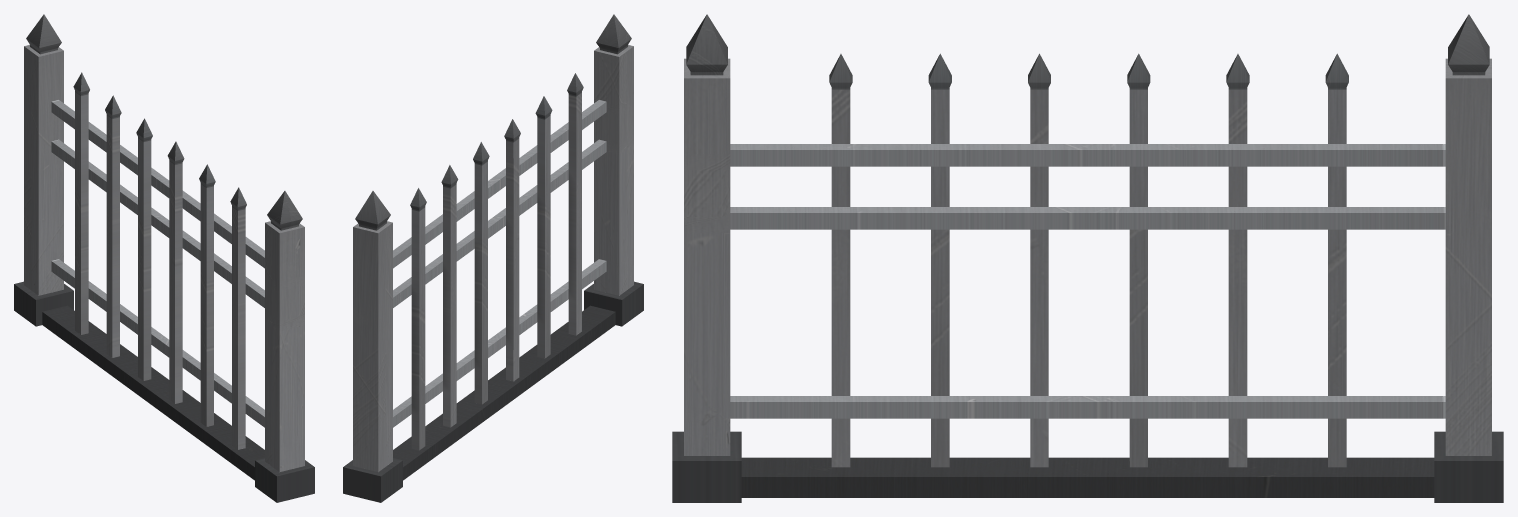
File: FenceEnd.fbx
3 renders of one model, left to right at view 1: azimuth 30°, elevation 25°; view 2: azimuth 150°, elevation 25°; view 3: azimuth 270°, elevation 25°, orthographic. The views are drawn at different scales.
Parts seen in each view (by area): view 1: Fence_End; view 2: Fence_End; view 3: Fence_End.
Boxes of the visible parts, x1,y1,x2,y2 form: Fence_End: [14, 14, 314, 502]; Fence_End: [343, 14, 643, 502]; Fence_End: [672, 14, 1503, 502].
Bounding box in the file's own units: 15 × 113 × 180.
1 material, 1 textured.
